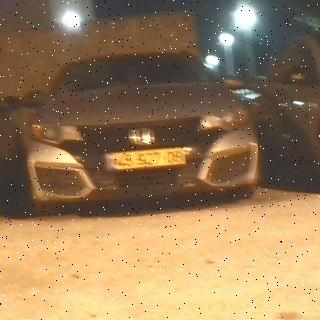LicensePlate: (115, 148, 185, 169)
